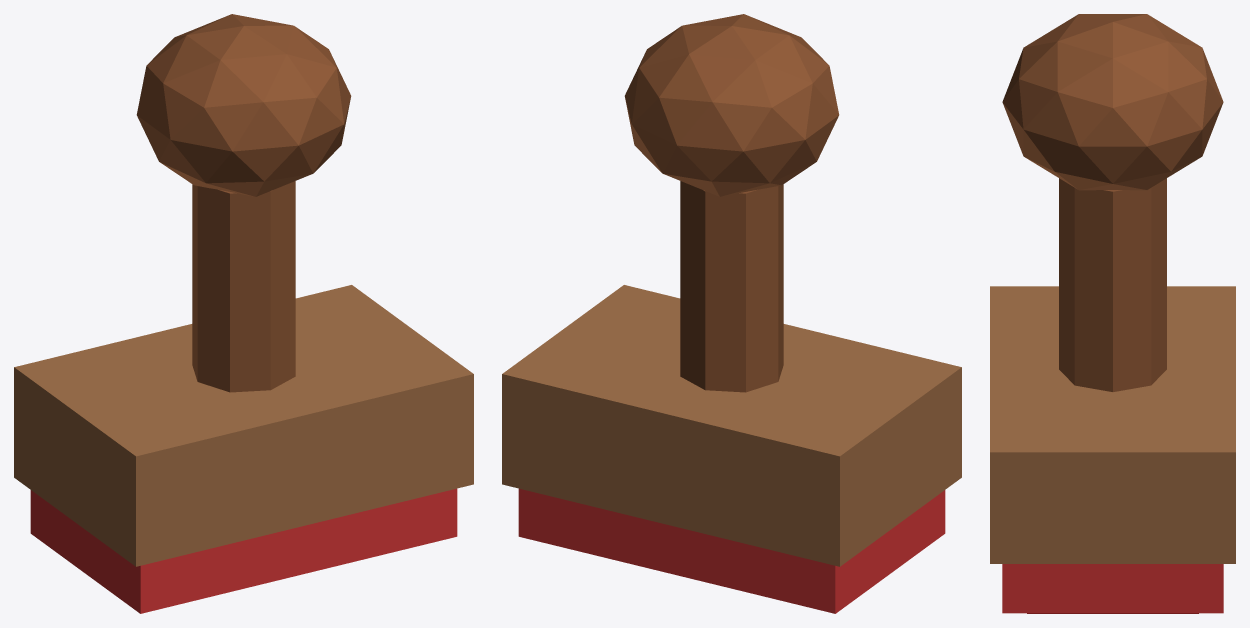
File: RubberStamp.fbx
3 views of the same model, side by side, from view 1: azimuth 30°, elevation 25°; view 2: azimuth 150°, elevation 25°; view 3: azimuth 270°, elevation 25° (orthographic).
Parts seen in each view (by area): view 1: Block, Handle, Rubber; view 2: Block, Handle, Rubber; view 3: Block, Handle, Rubber.
Boxes of the visible parts, left/top/right/bottom form: Block: left=14, top=285, right=473, bottom=566; Handle: left=136, top=14, right=351, bottom=392; Rubber: left=30, top=488, right=457, bottom=613; Block: left=502, top=285, right=961, bottom=566; Handle: left=624, top=14, right=839, bottom=392; Rubber: left=518, top=488, right=945, bottom=613; Block: left=990, top=286, right=1235, bottom=563; Handle: left=1002, top=14, right=1223, bottom=391; Rubber: left=1002, top=564, right=1223, bottom=613.
Size of the model in its own units: 1.6 by 2.36 by 1.
